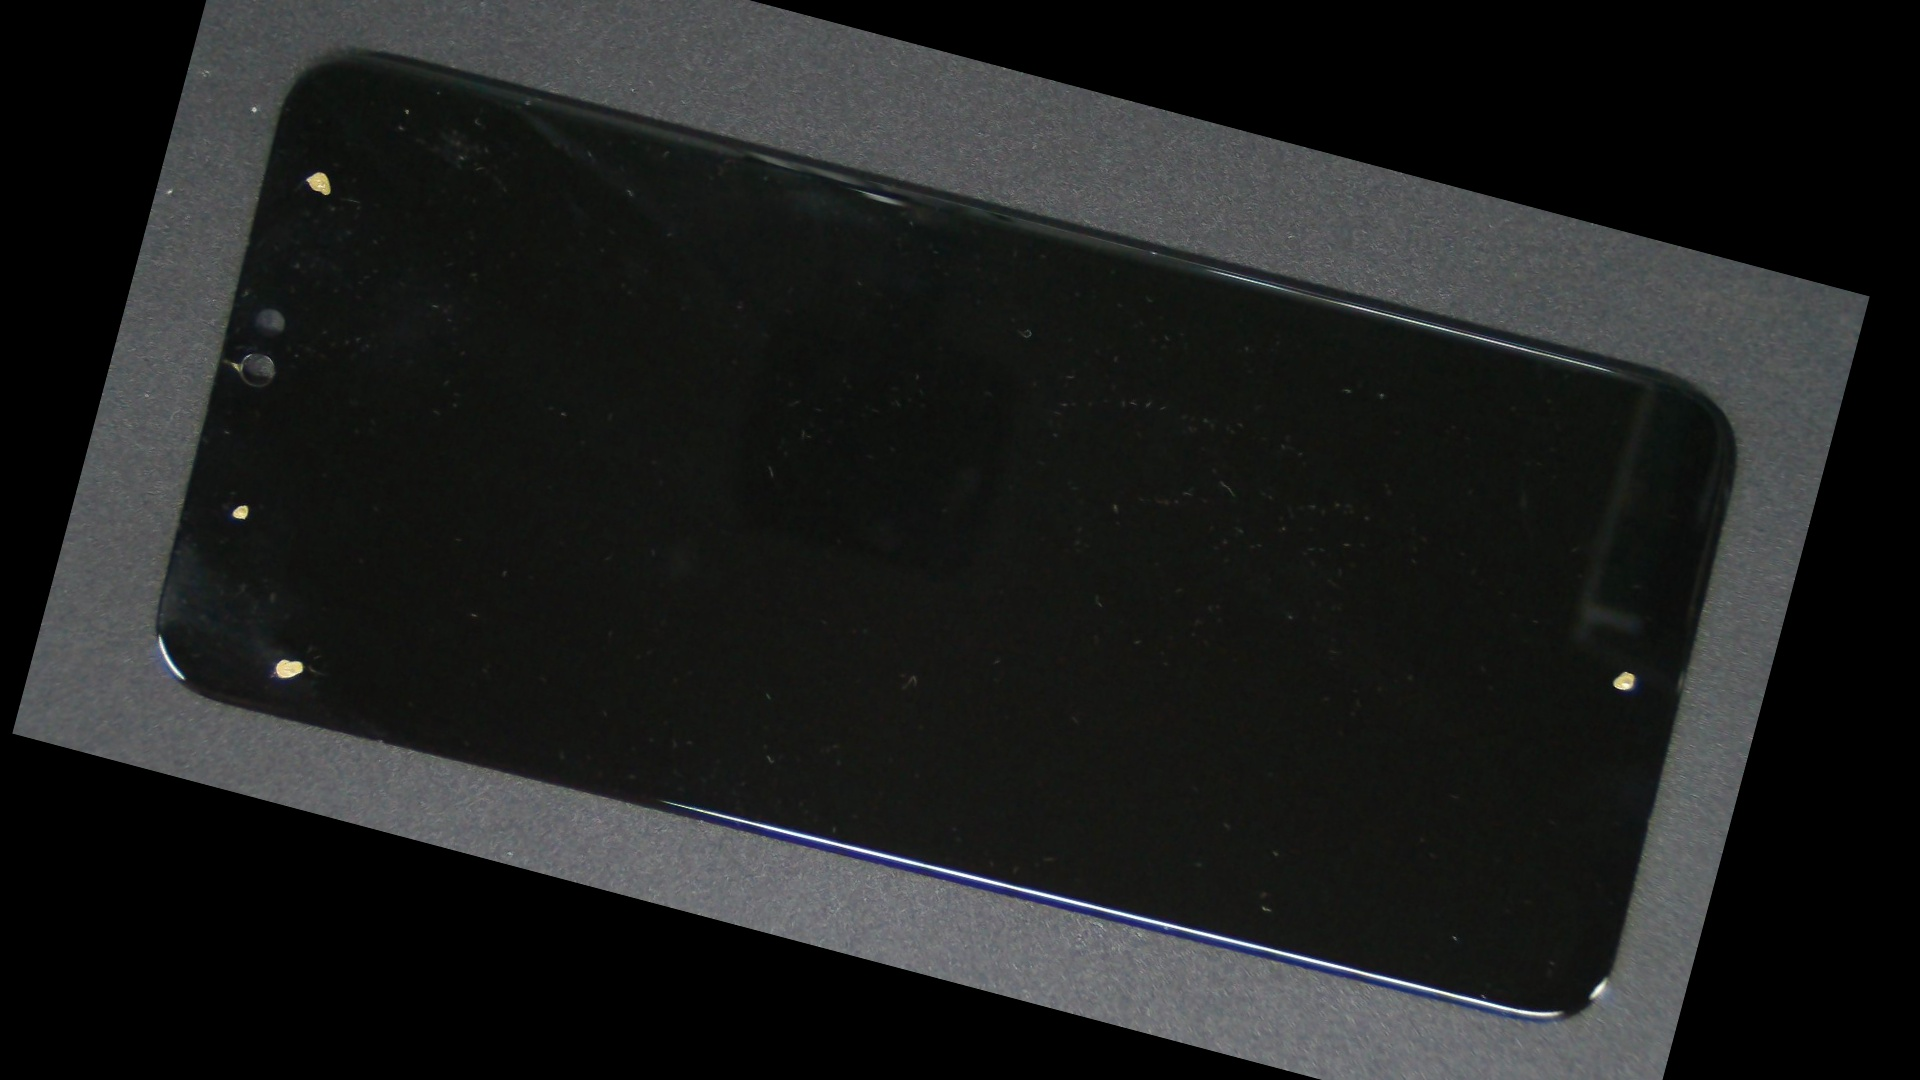oil: (824, 268, 1816, 913), (138, 262, 522, 833), (92, 185, 404, 796), (211, 18, 427, 323)
